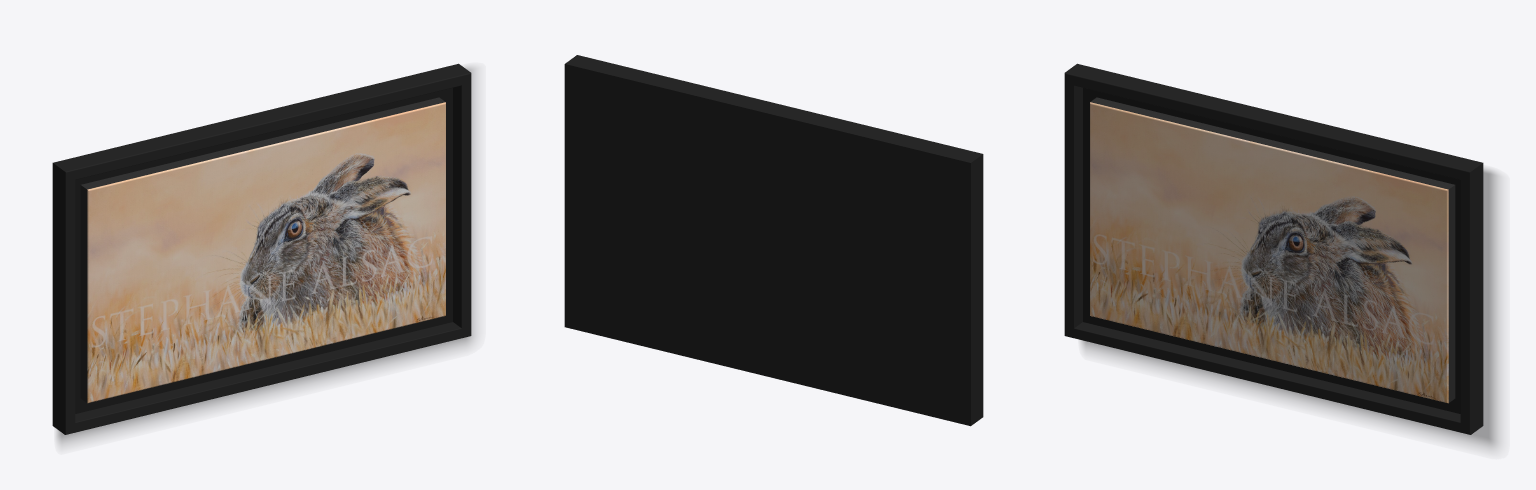
File: tableau-realiste-lievre-classique-5df9f25e.glb
3 renders of one model, left to right at view 1: azimuth 30°, elevation 25°; view 2: azimuth 150°, elevation 25°; view 3: azimuth 330°, elevation 25°, orthographic.
Parts seen in each view (by area): view 1: Painting; view 2: Painting; view 3: Painting.
Boxes of the visible parts, x1,y1,x2,y2 form: Painting: (52, 63, 474, 444); Painting: (564, 55, 983, 426); Painting: (1064, 63, 1498, 448).
Bounding box in the file's own units: 0.876 × 0.596 × 0.04.
5 materials, 3 textured.
